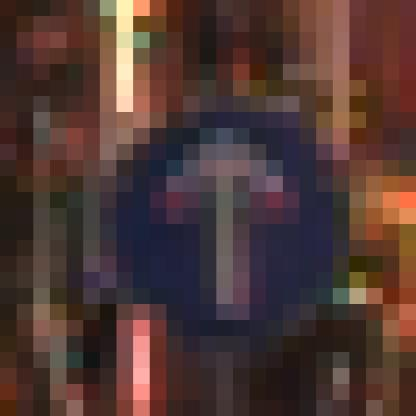AheadOnly: (84, 81, 334, 321)
